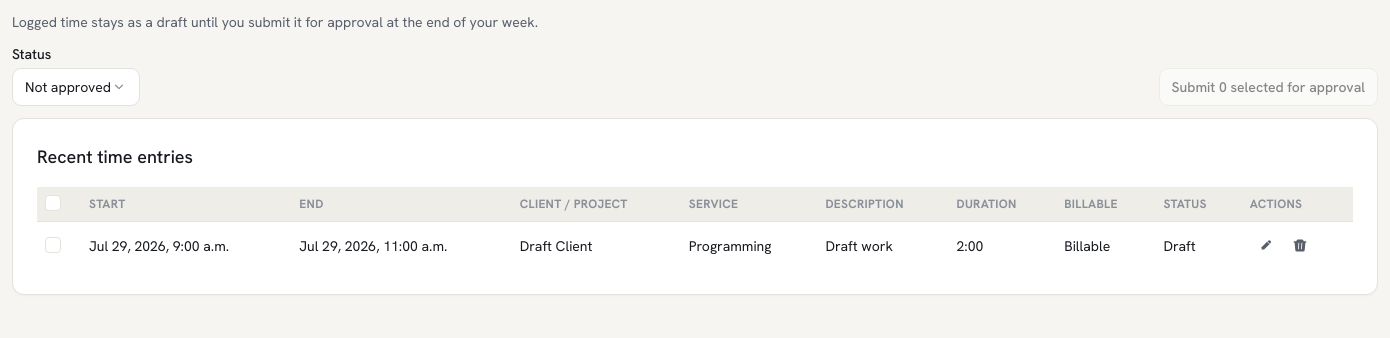
Test: RecentDraftEntriesSection › hides approved entries by default and shows them when filtered
Expected: the text "Draft Client" is shown, x1=508 y1=222 x2=677 y2=270
Expected: the text "Approved Client" is not shown
Click the button named "status": (76, 87) x1=12 y1=68 x2=140 y2=106
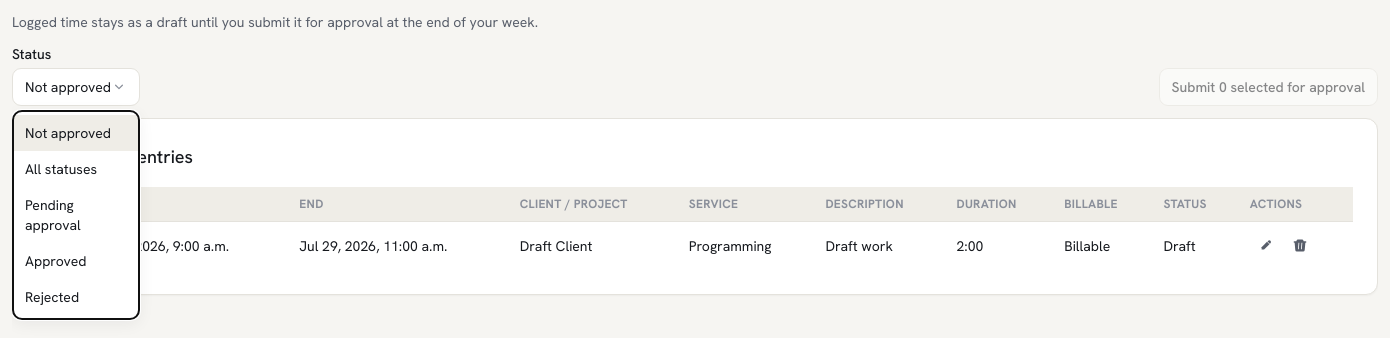
Click the option "Approved": (56, 261) x1=25 y1=252 x2=86 y2=270
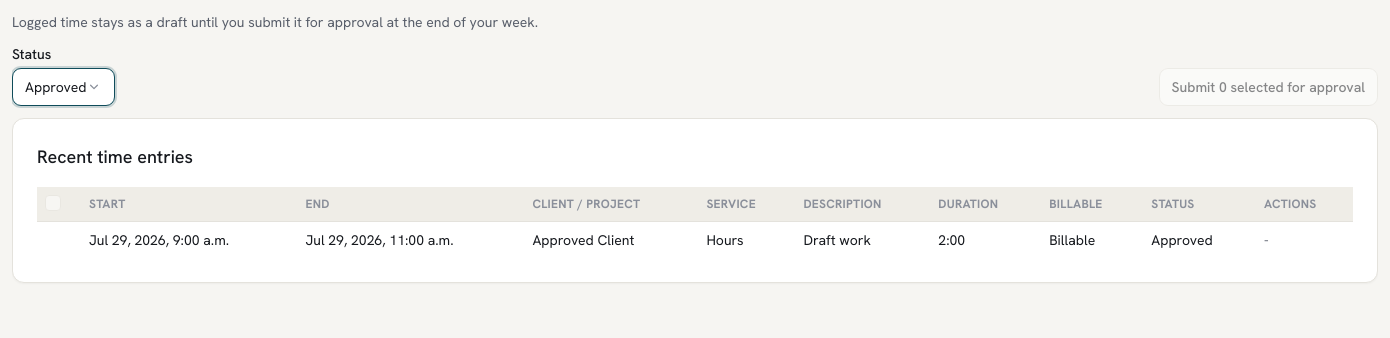
Expected: the text "Approved Client" is shown, x1=520 y1=222 x2=694 y2=258
Expected: the text "Draft Client" is gone
